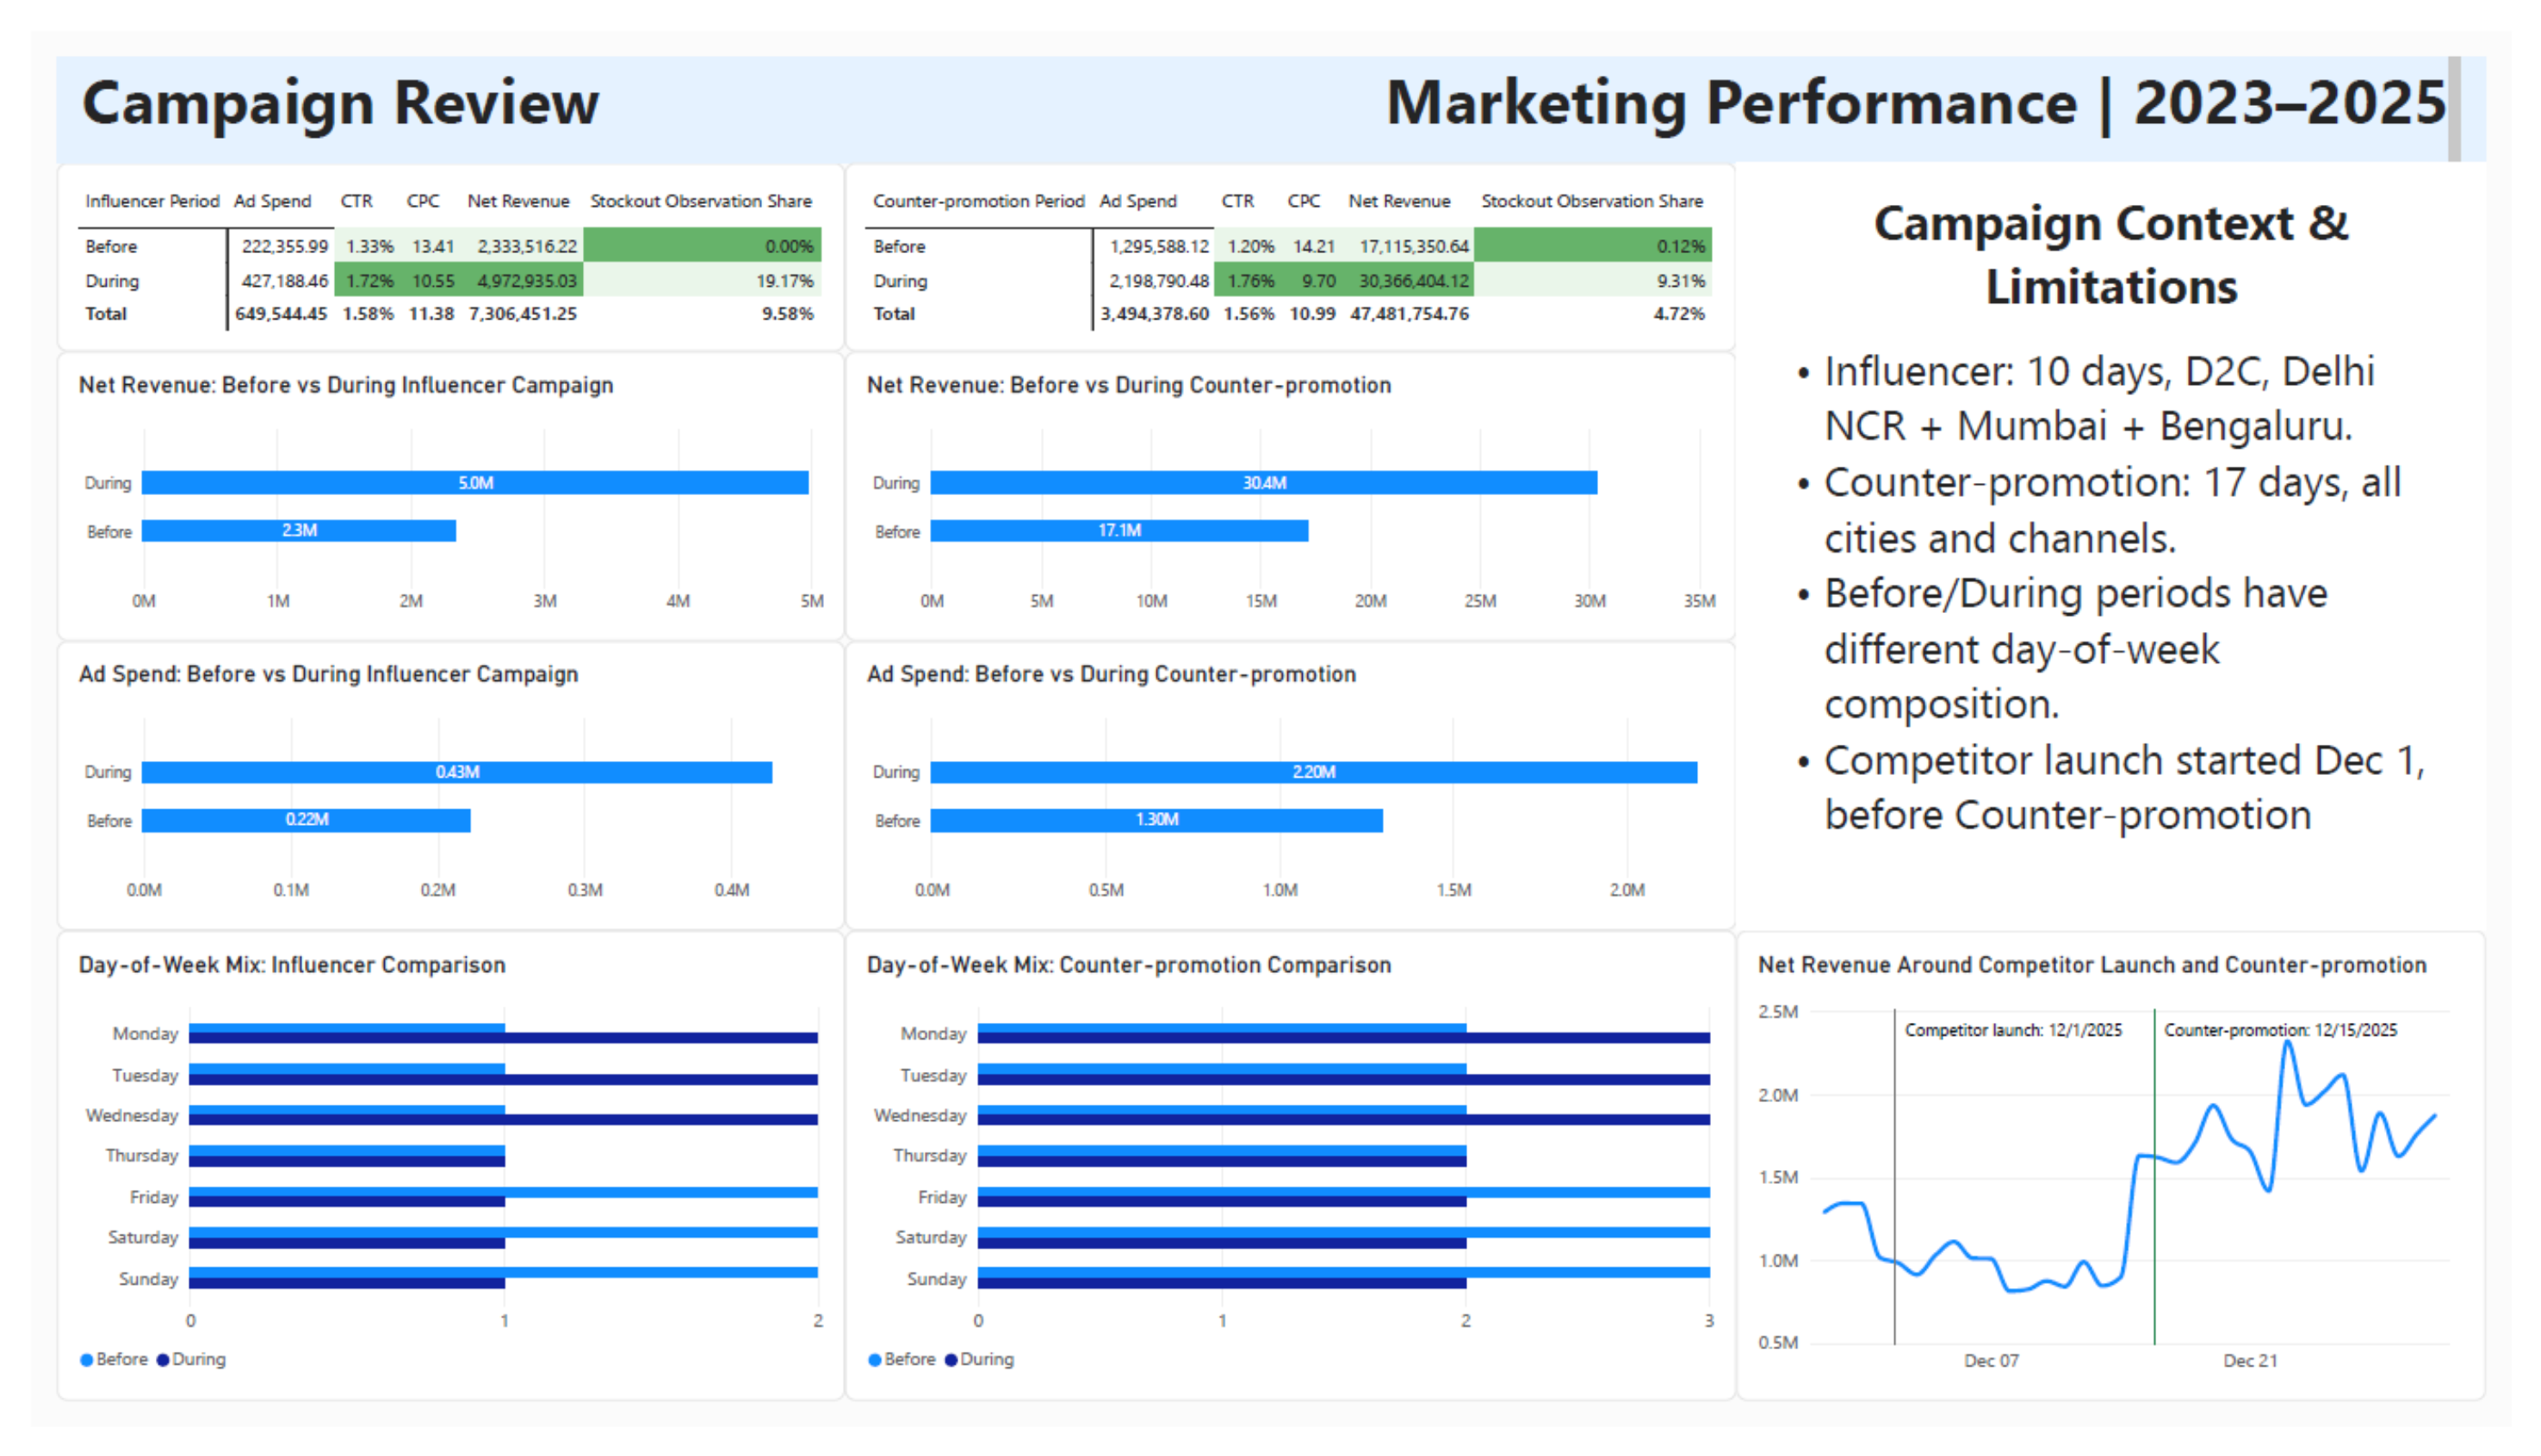

Layout of this report page (visuals, bound fields, positions):
{"tool":"powerbi","page":{"name":"Campaign Review","canvas":[1920,1080],"ordinal":2},"visuals":[{"type":"pivotTable","fields":{"Rows":["FactPerformance.Influencer Period"],"Values":["FactPerformance.Ad Spend","FactPerformance.CTR","FactPerformance.CPC","FactPerformance.Net Revenue","FactPerformance.Stockout Observation Share"]},"box":[20,102,610,146],"z":0},{"type":"clusteredBarChart","title":"Net Revenue: Before vs During Influencer Campaign","fields":{"Category":["FactPerformance.Influencer Period"],"Y":["FactPerformance.Net Revenue"]},"box":[20,248,610,224],"z":1000},{"type":"textbox","box":[20,20,940,82],"z":2000},{"type":"textbox","box":[960,20,940,82],"z":3000},{"type":"clusteredBarChart","title":"Ad Spend: Before vs During Influencer Campaign","fields":{"Category":["FactPerformance.Influencer Period"],"Y":["FactPerformance.Ad Spend"]},"box":[20,472,610,224],"z":4000},{"type":"clusteredBarChart","title":"Day-of-Week Mix: Influencer Comparison","fields":{"Category":["DimDate.DayName"],"Series":["FactPerformance.Influencer Period"],"Y":["FactPerformance.Distinct Days"]},"box":[20,696,610,364],"z":5000},{"type":"pivotTable","fields":{"Rows":["FactPerformance.Counter-promotion Period"],"Values":["FactPerformance.Ad Spend","FactPerformance.CTR","FactPerformance.CPC","FactPerformance.Net Revenue","FactPerformance.Stockout Observation Share"]},"box":[630,102,690,146],"z":6000},{"type":"clusteredBarChart","title":"Net Revenue: Before vs During Counter-promotion","fields":{"Category":["FactPerformance.Counter-promotion Period"],"Y":["FactPerformance.Net Revenue"]},"box":[630,248,690,224],"z":7000},{"type":"clusteredBarChart","title":"Ad Spend: Before vs During Counter-promotion","fields":{"Category":["FactPerformance.Counter-promotion Period"],"Y":["FactPerformance.Ad Spend"]},"box":[630,472,690,224],"z":8000},{"type":"lineChart","title":"Net Revenue Around Competitor Launch and Counter-promotion","fields":{"Category":["DimDate.date"],"Y":["FactPerformance.Net Revenue"]},"box":[1320,696,580,364],"z":9000},{"type":"clusteredBarChart","title":"Day-of-Week Mix: Counter-promotion Comparison","fields":{"Category":["DimDate.DayName"],"Series":["FactPerformance.Counter-promotion Period"],"Y":["FactPerformance.Distinct Days"]},"box":[630,696,690,364],"z":10000},{"type":"textbox","box":[1320,102,580,594],"z":11000}]}

Visuals, with their boxes in screenshot pixels (x1, y1, x2, y2), scaled from the page's 1920x1080 canvas onto the 2541x1456 screenshot:
pivotTable - FactPerformance.Influencer Period x FactPerformance.Ad Spend: bbox=(27, 138, 834, 334)
"Net Revenue: Before vs During Influencer Campaign" clusteredBarChart: bbox=(27, 334, 834, 636)
textbox: bbox=(27, 27, 1271, 138)
textbox: bbox=(1271, 27, 2514, 138)
"Ad Spend: Before vs During Influencer Campaign" clusteredBarChart: bbox=(27, 636, 834, 939)
"Day-of-Week Mix: Influencer Comparison" clusteredBarChart: bbox=(27, 939, 834, 1429)
pivotTable - FactPerformance.Counter-promotion Period x FactPerformance.Ad Spend: bbox=(834, 138, 1747, 334)
"Net Revenue: Before vs During Counter-promotion" clusteredBarChart: bbox=(834, 334, 1747, 636)
"Ad Spend: Before vs During Counter-promotion" clusteredBarChart: bbox=(834, 636, 1747, 939)
"Net Revenue Around Competitor Launch and Counter-promotion" lineChart: bbox=(1747, 939, 2514, 1429)
"Day-of-Week Mix: Counter-promotion Comparison" clusteredBarChart: bbox=(834, 939, 1747, 1429)
textbox: bbox=(1747, 138, 2514, 939)
